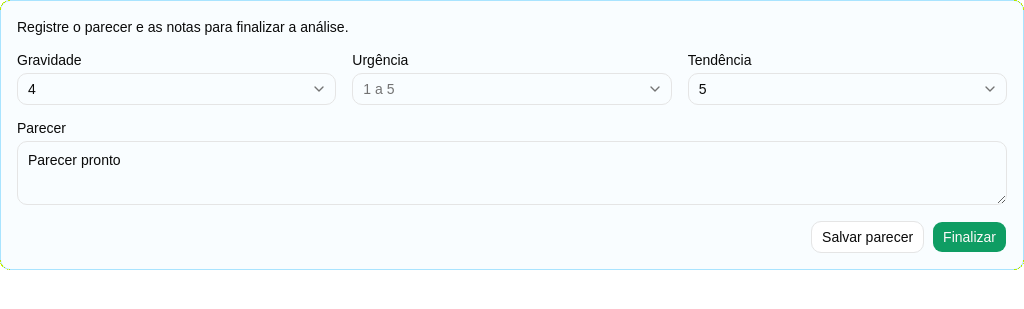
AnalysisPanel › bloqueia a finalização quando falta apenas uma das notas
The width and height of the screenshot is (1024, 309).
What coordinates should you click on to do the following:
click the button "Finalizar"
I would click on:
 (970, 237)
Its box is [932,221,1007,253].
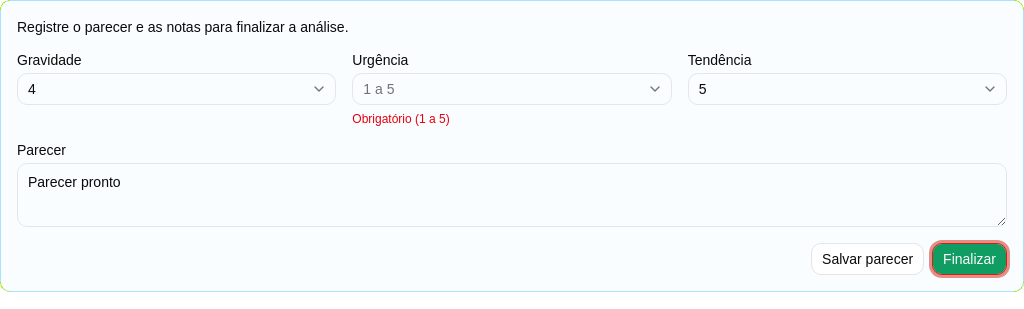
expect the text "Obrigatório (1 a 5)" is shown: met, box [352,112,450,126]
